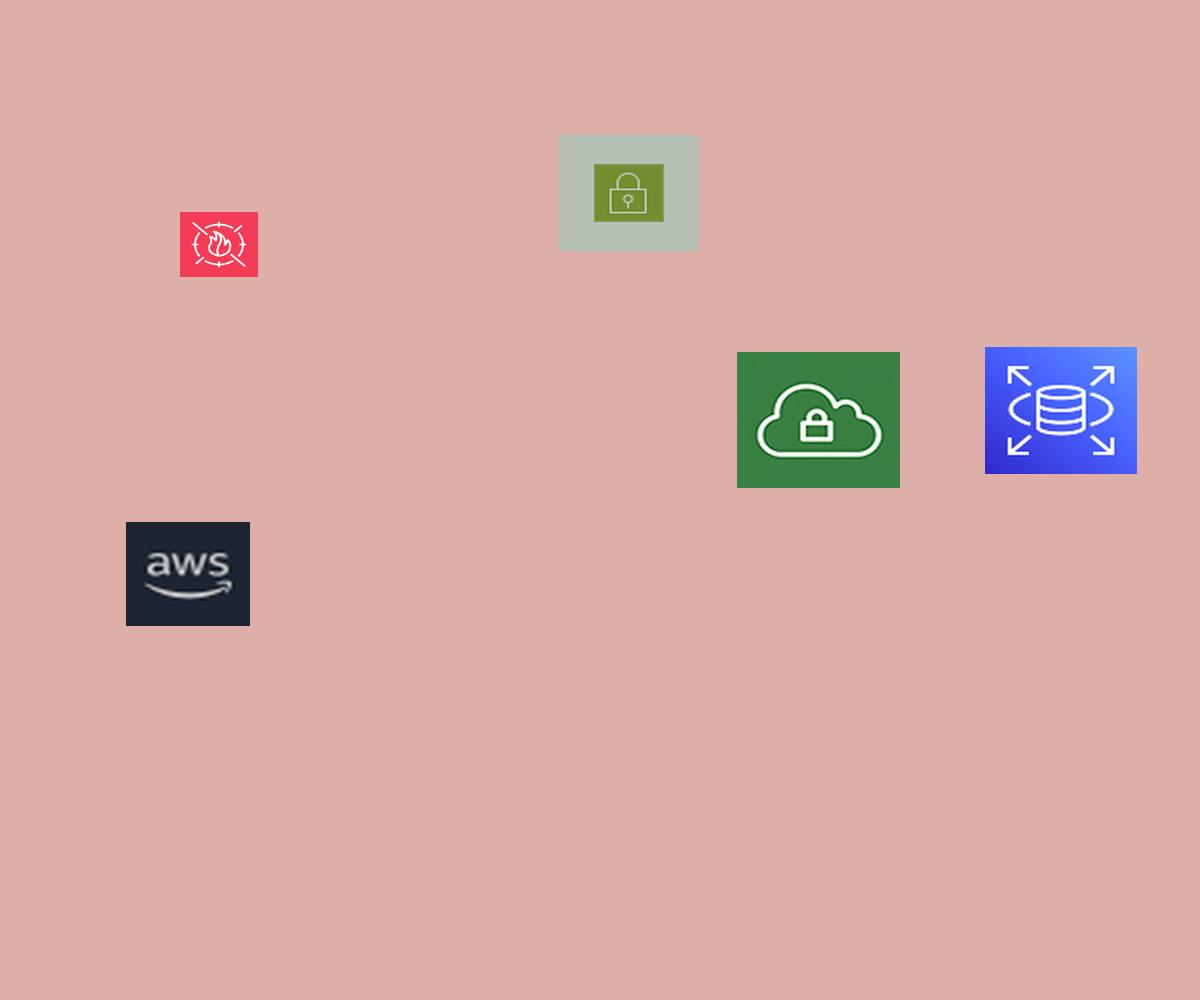AWS-Cloud-logo: (126, 522, 250, 626)
AWS-Private_vpc: (737, 352, 900, 488)
AWS-Public-subnet: (559, 135, 699, 251)
AWS-RDS: (985, 347, 1137, 474)
AWS-WAF: (180, 212, 258, 277)
